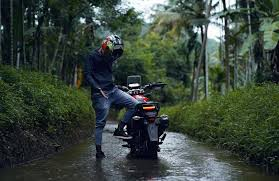motorcycle: (112, 73, 169, 162)
